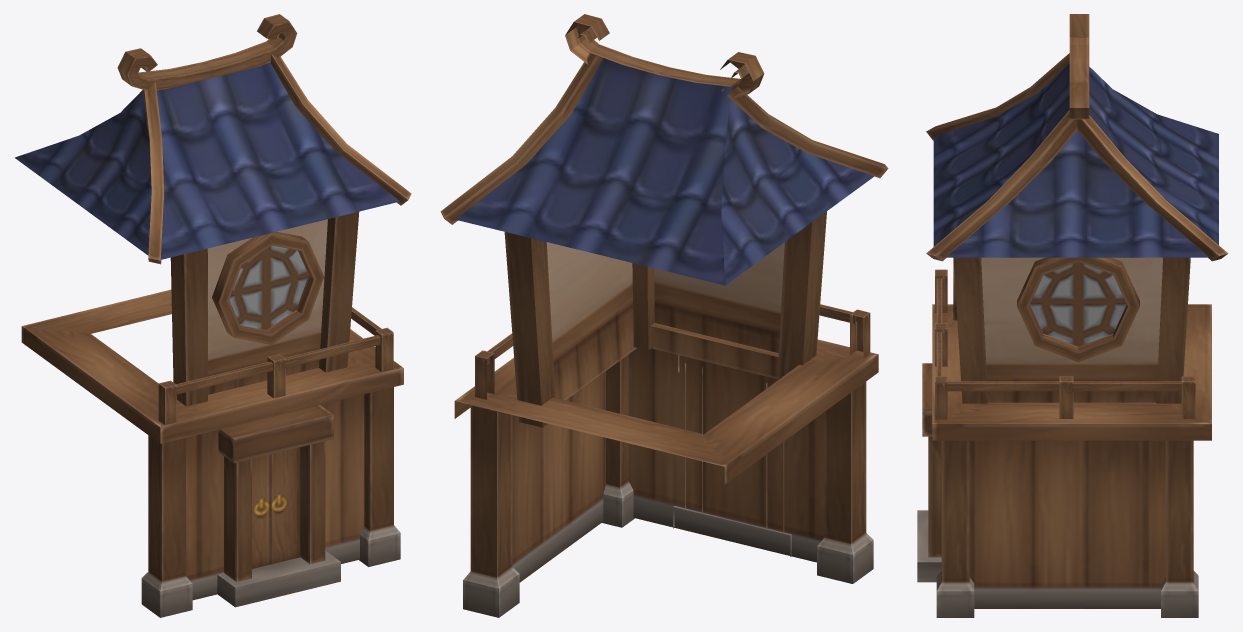
File: mine_prop_3.FBX
3 renders of one model, left to right at view 1: azimuth 30°, elevation 25°; view 2: azimuth 150°, elevation 25°; view 3: azimuth 270°, elevation 25°, orthographic. The views are drawn at different scales.
Parts seen in each view (by area): view 1: mine_prop_3; view 2: mine_prop_3; view 3: mine_prop_3.
Part boxes in pixels (x1=…): mine_prop_3: x1=15, y1=14, x2=411, y2=617; mine_prop_3: x1=440, y1=14, x2=888, y2=617; mine_prop_3: x1=917, y1=14, x2=1228, y2=617.
Bounding box in the file's own units: 86.17 × 157 × 87.38.
